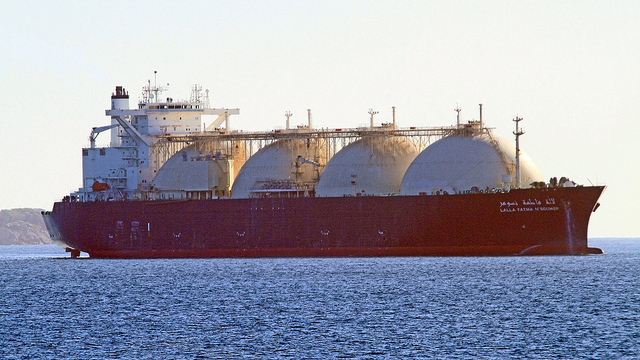LNG_ship: (35, 73, 609, 259)
